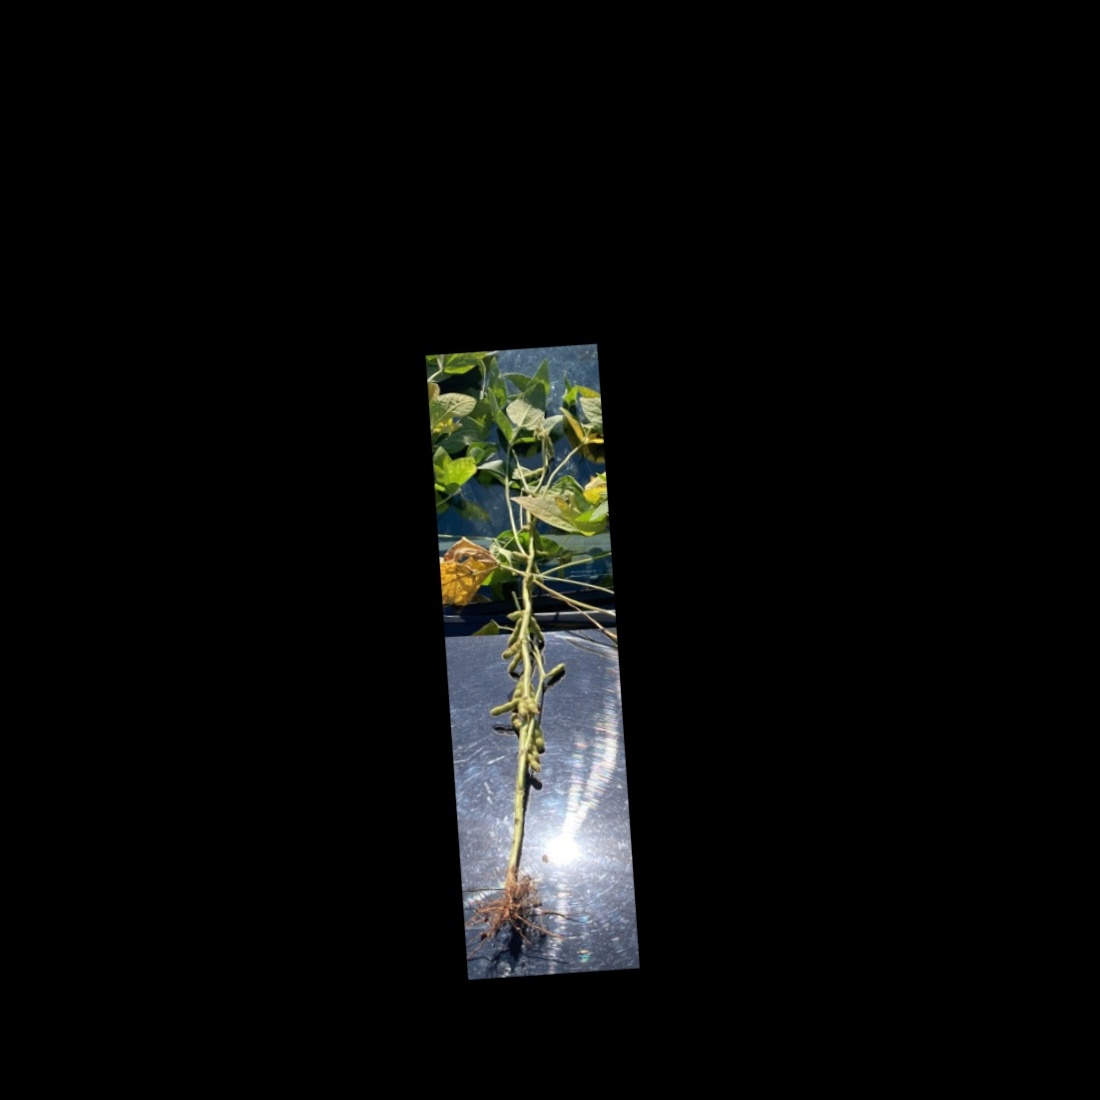pod: (525, 612, 550, 648), (487, 697, 521, 718), (498, 635, 524, 662), (504, 647, 526, 676), (543, 660, 568, 681), (531, 727, 550, 751), (527, 752, 546, 776)
soy: (434, 352, 614, 953)
